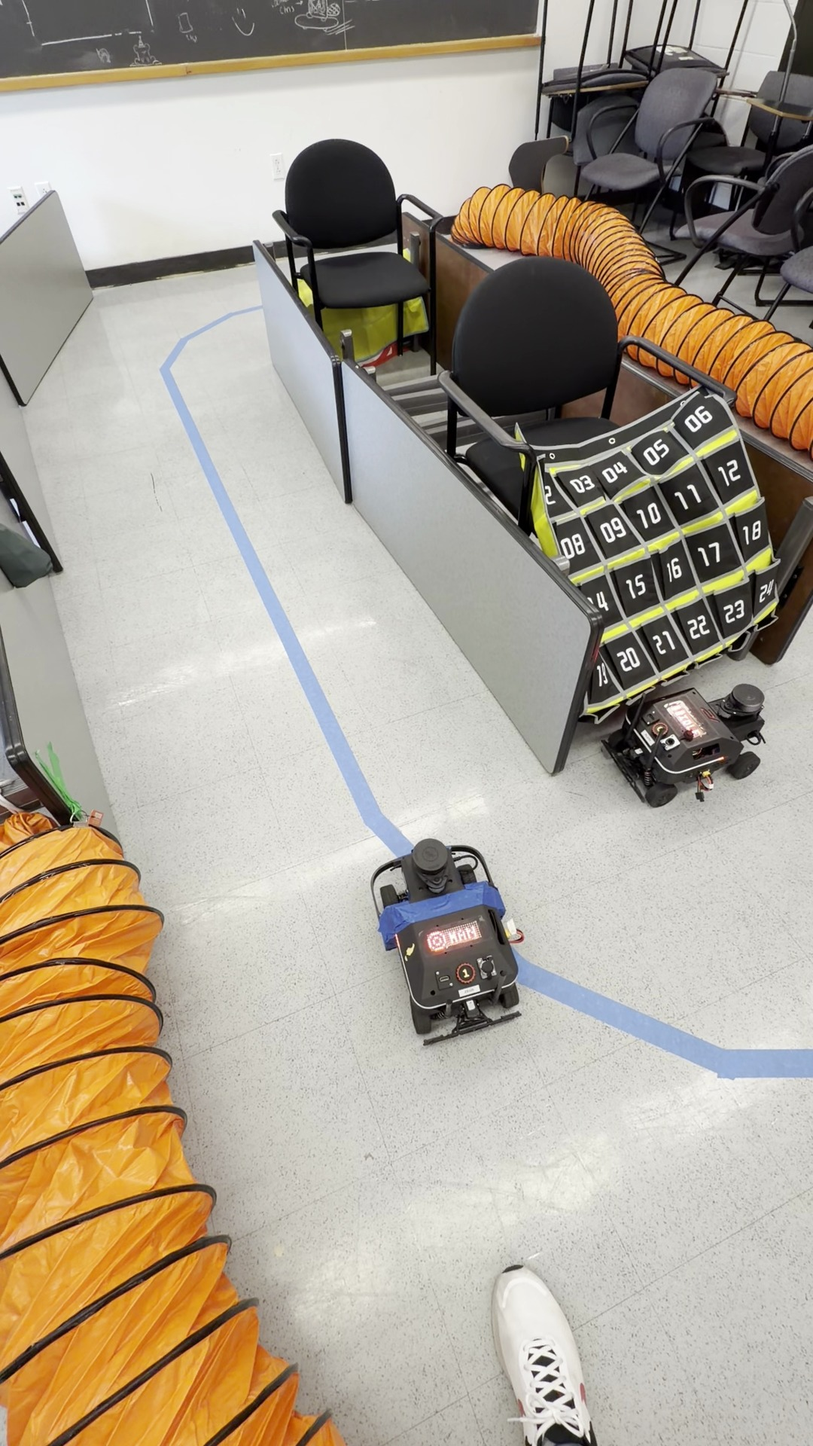racecar: (372, 837, 524, 1046), (600, 675, 762, 808)
